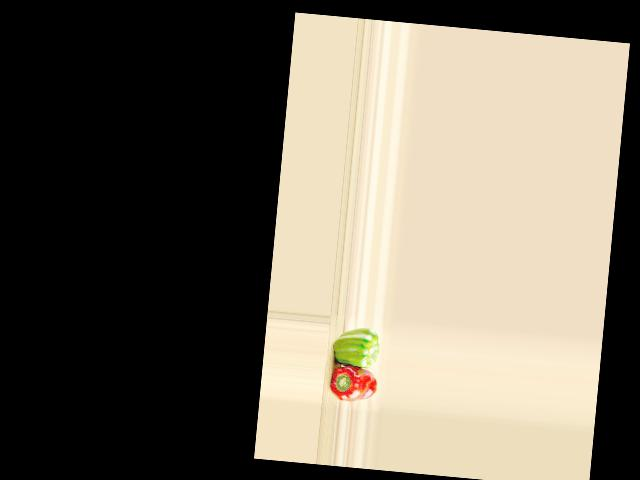bell_pepper: (329, 362, 379, 404)
